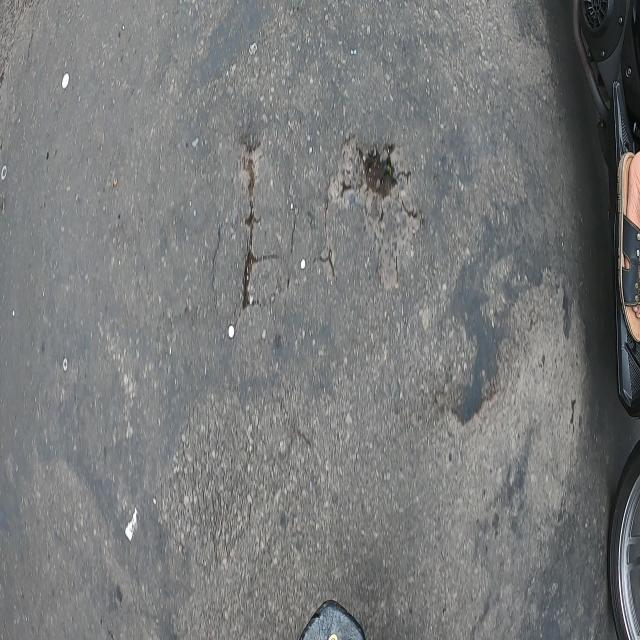Lubang: (364, 153, 399, 200)
